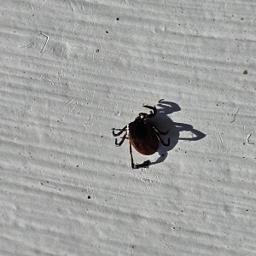Ixodes scapularis: (112, 105, 169, 169)
